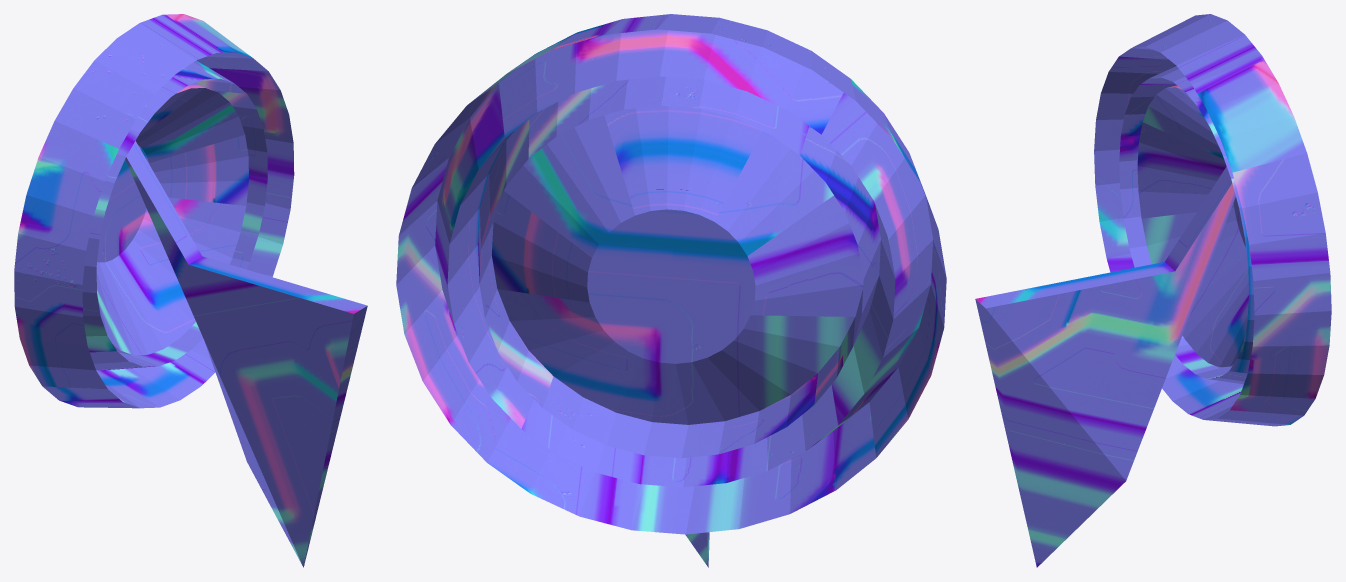
Rendered from radar4.obj.
3 renders of one model, left to right at view 1: azimuth 30°, elevation 25°; view 2: azimuth 150°, elevation 25°; view 3: azimuth 270°, elevation 25°, orthographic. The views are drawn at different scales.
Parts seen in each view (by area): view 1: radar; view 2: radar; view 3: radar.
Boxes of the visible parts, x1,y1,x2,y2 form: radar: [14, 14, 367, 567]; radar: [396, 14, 946, 567]; radar: [975, 14, 1331, 567].
Size of the model in its own units: 0.9198 by 1.3 by 0.8377.
